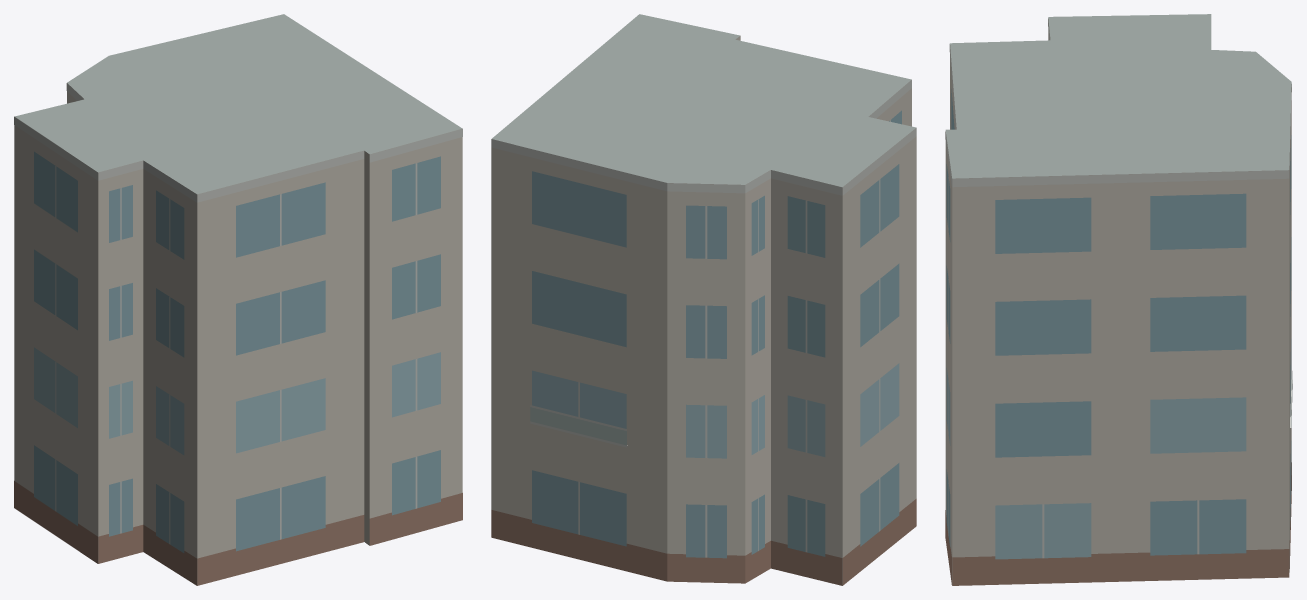
The model's file is survey-upis-32976040.glb.
3 views of the same model, side by side, from view 1: azimuth 30°, elevation 25°; view 2: azimuth 150°, elevation 25°; view 3: azimuth 270°, elevation 25° (orthographic). The views are drawn at different scales.
Parts seen in each view (by area): view 1: survey-upis-32976040.tmp; view 2: survey-upis-32976040.tmp; view 3: survey-upis-32976040.tmp.
Part boxes in pixels (x1,y1,x2,y2): survey-upis-32976040.tmp: (14,14,462,585); survey-upis-32976040.tmp: (491,14,916,585); survey-upis-32976040.tmp: (945,14,1292,585).
Bounding box in the file's own units: 9.93 × 11.46 × 8.86.
